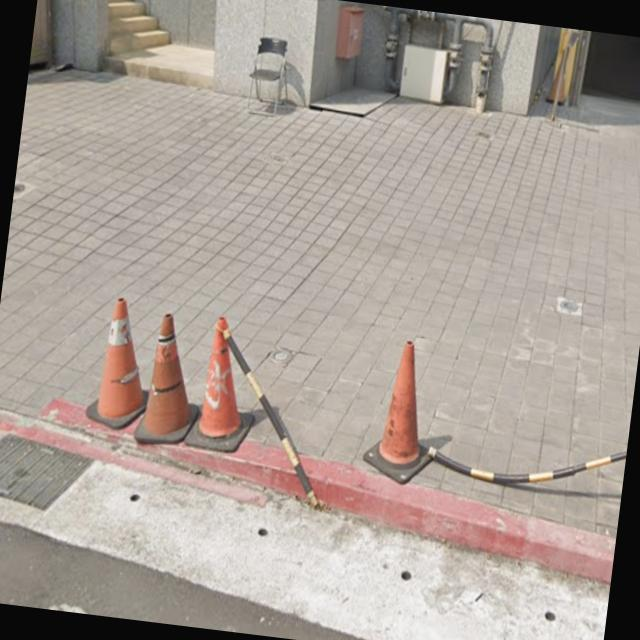cone: (353, 327, 445, 491), (120, 304, 206, 455), (185, 312, 272, 455), (81, 286, 152, 434)
